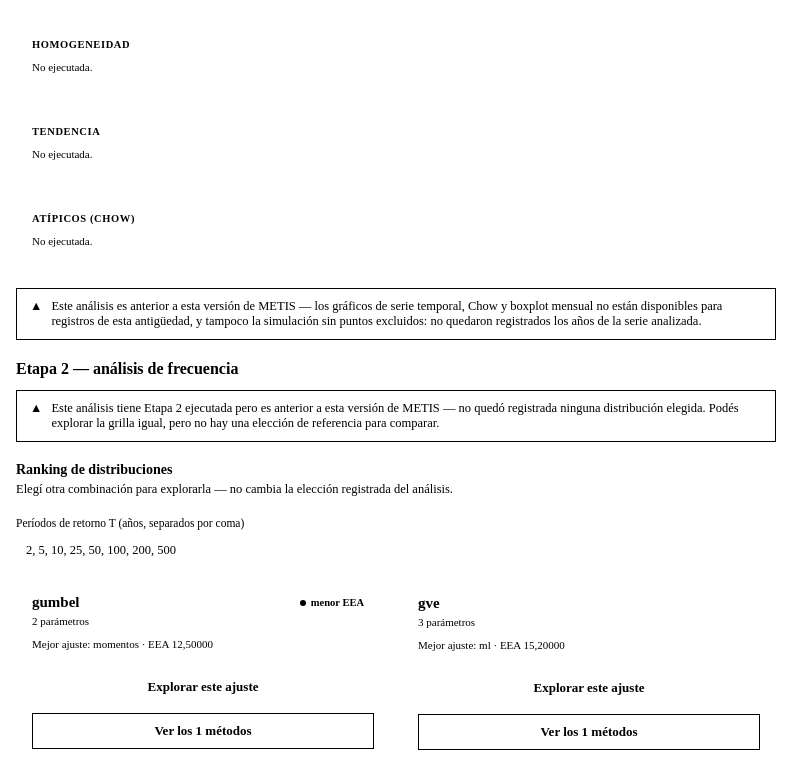
Test: HistoryDetailPage › C3 — muestra un error legible si el recálculo falla
(page scrolled)
What coordinates should you click on to do the following:
click the button "Explorar este ajuste" below "momentos"
I would click on:
 (203, 687)
Its box is 32,669 -> 374,705.
(page scrolled)
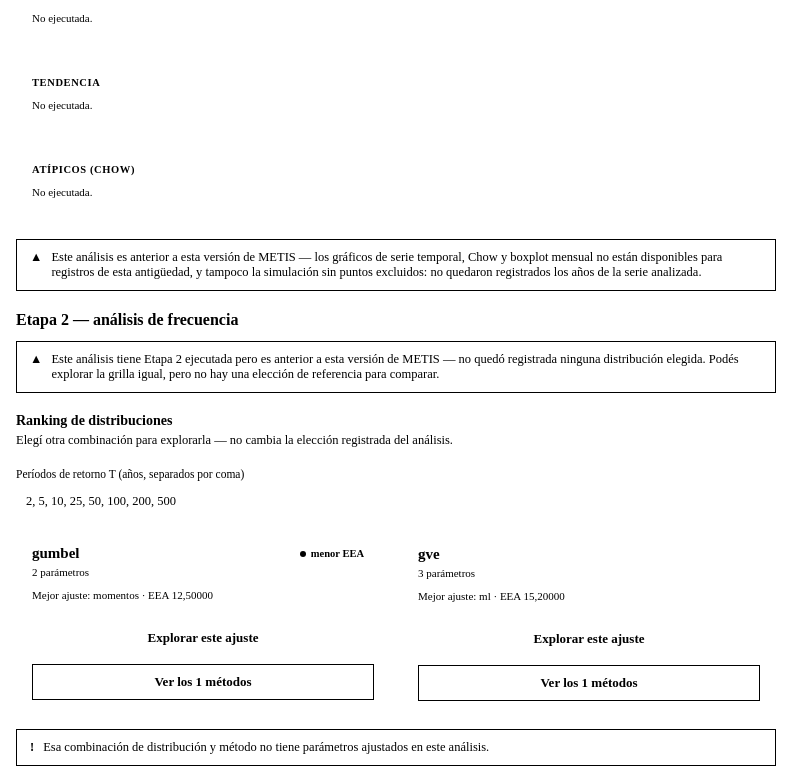
Now the message shows "no tiene parámetros ajustados", box 43,740 -> 489,754
